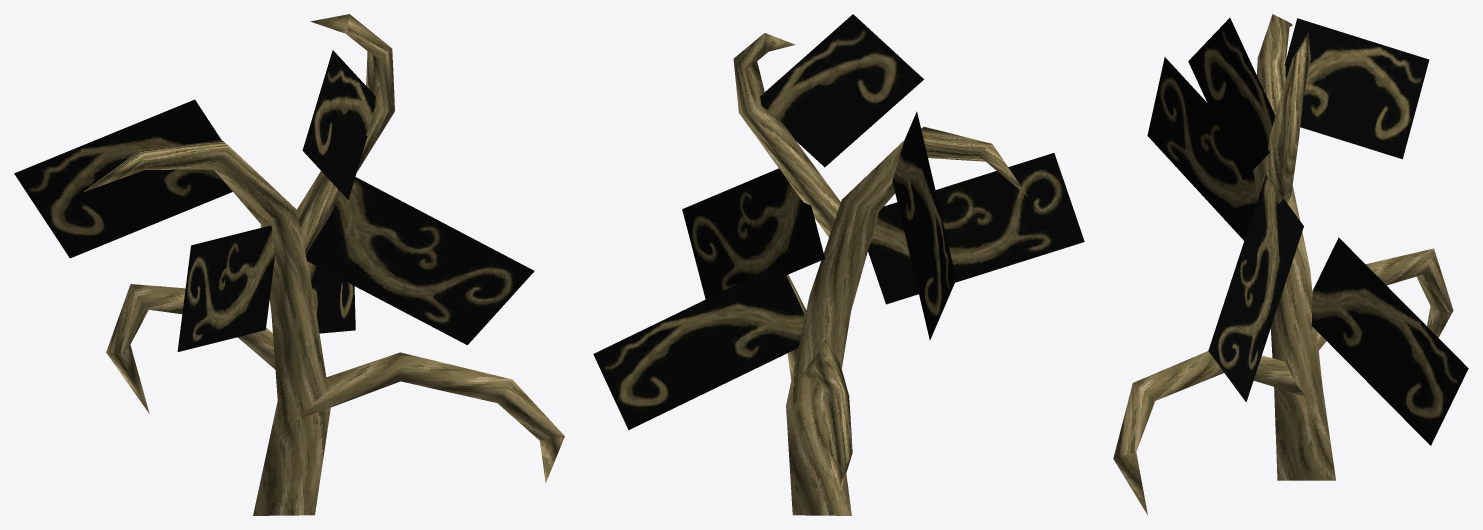
File: INST_OH_SPIKE_SHRUB_02.fbx
3 views of the same model, side by side, from view 1: azimuth 30°, elevation 25°; view 2: azimuth 150°, elevation 25°; view 3: azimuth 270°, elevation 25° (orthographic). The views are drawn at different scales.
Parts seen in each view (by area): view 1: INST_OH_SPIKE_SHRUB_02; view 2: INST_OH_SPIKE_SHRUB_02; view 3: INST_OH_SPIKE_SHRUB_02.
Boxes of the visible parts, left/top/right/bottom form: INST_OH_SPIKE_SHRUB_02: left=14, top=14, right=564, bottom=515; INST_OH_SPIKE_SHRUB_02: left=593, top=14, right=1084, bottom=515; INST_OH_SPIKE_SHRUB_02: left=1113, top=14, right=1468, bottom=515.
Size of the model in its own units: 12567 by 14327 by 10023.
Materials: 3 (3 with a texture image).
